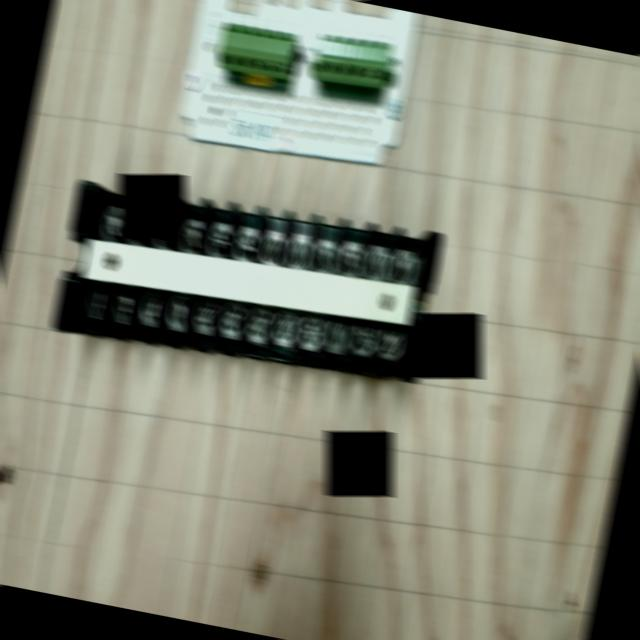Flathead_Block: (52, 181, 443, 382)
Terminal_1: (215, 20, 299, 80), (313, 33, 393, 85)
